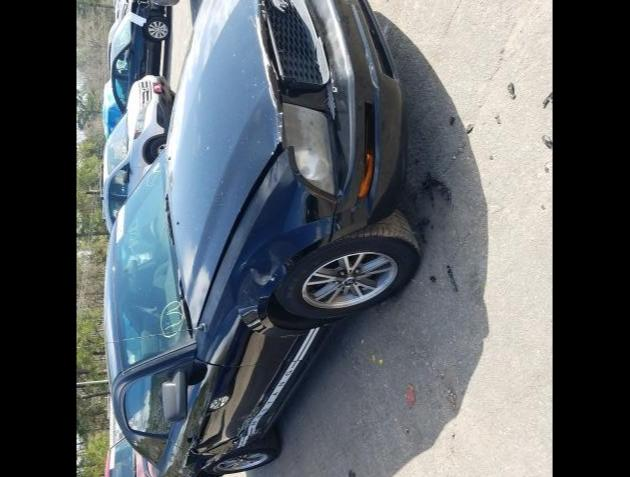Broken part: (194, 138, 294, 326), (263, 0, 334, 108), (328, 198, 338, 243)
Dent: (244, 249, 286, 302), (302, 190, 338, 222), (268, 63, 280, 102), (260, 14, 268, 54)
Missing part: (365, 100, 376, 156)
Paint chip: (256, 15, 280, 124), (276, 110, 284, 142), (330, 68, 340, 92), (258, 0, 266, 6), (262, 8, 266, 20), (272, 150, 274, 154)
Scratch: (351, 0, 383, 90)
